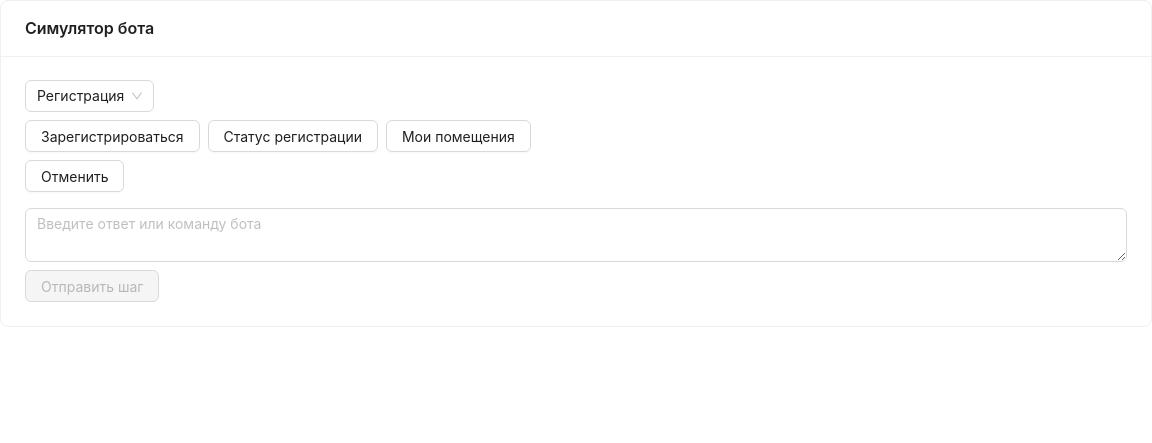
Test: показывает форматирование ответа вместо тегов, ввод пользователя оставляет текстом
This screenshot has width=1152, height=443.
Type "<b>Мой текст</b>" into the text box named "Сообщение симулятору".
click(576, 235); type("<b>Мой текст</b>")  # box [25, 208, 1127, 262]
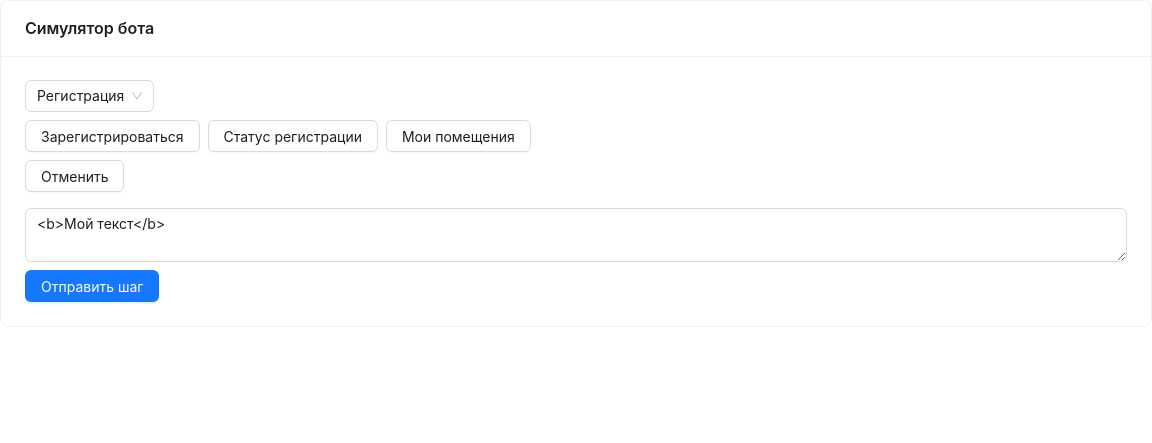
Click the button "Отправить шаг".
click(92, 286)  # box [25, 270, 159, 302]
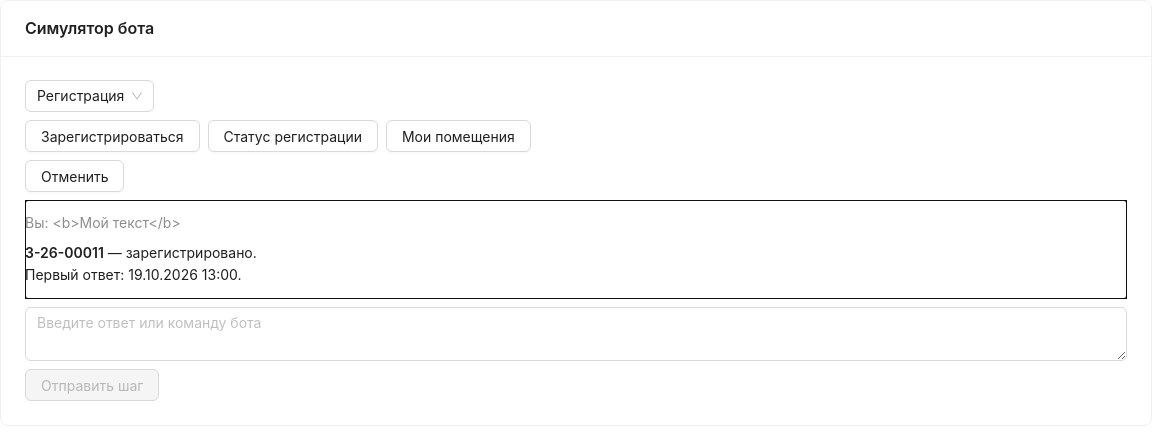
Expected: the text "Вы: <b>Мой текст</b>" is shown, [25, 214, 181, 231]
